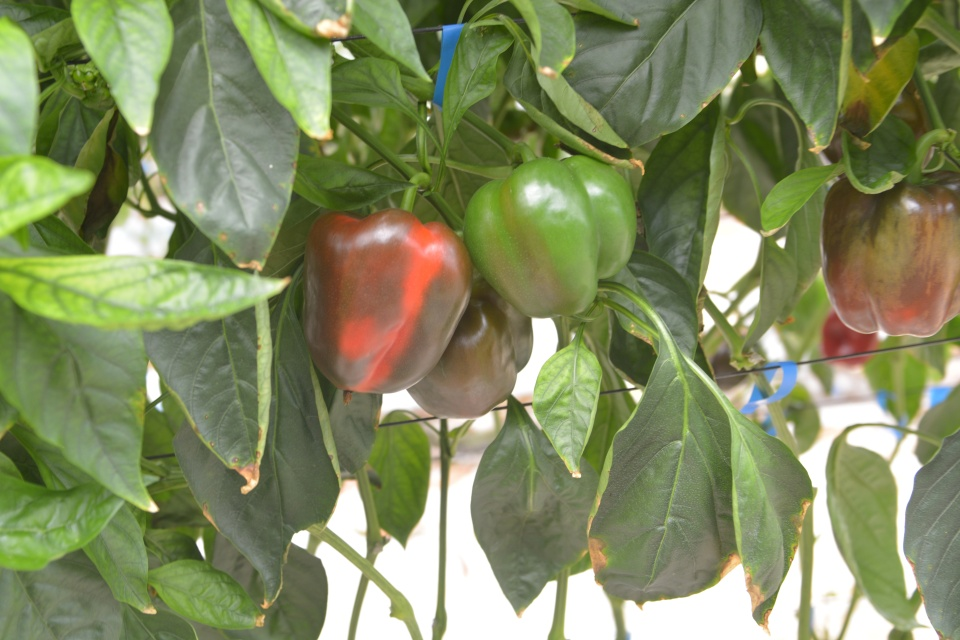fruit: (299, 206, 474, 396), (461, 152, 639, 320), (817, 166, 960, 339), (405, 275, 536, 420), (821, 308, 879, 369)
pedicle: (897, 172, 940, 187)
